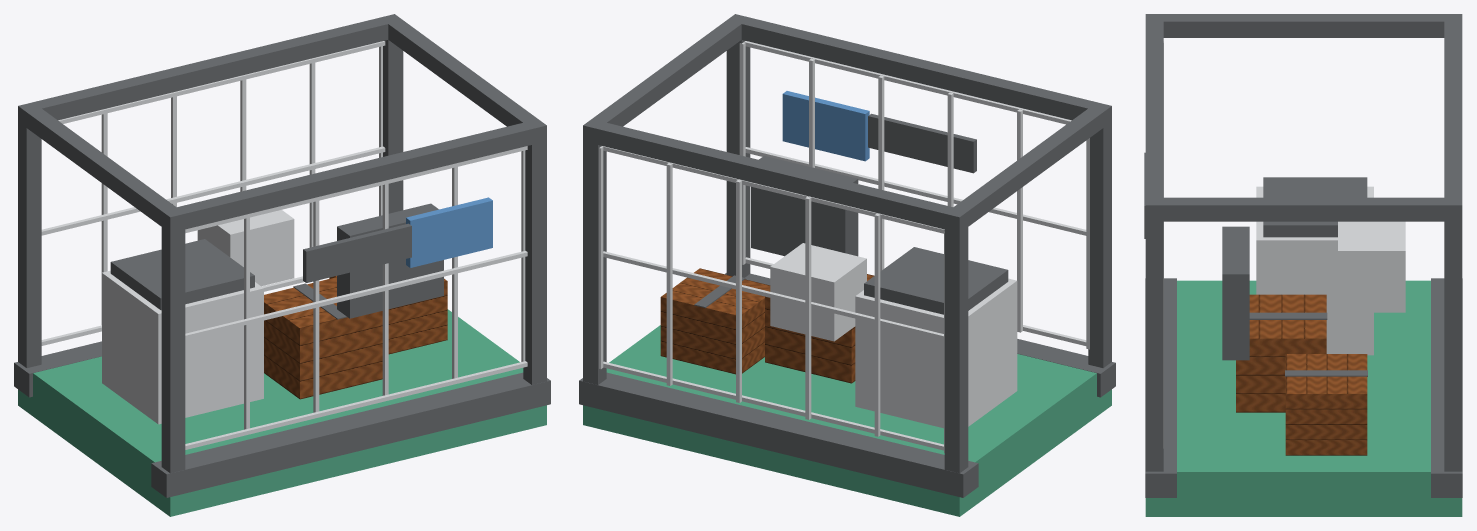
Rendered from recycling-and-waste-transfer-yard-recycling-and-waste--1be03227__34903.glb.
3 renders of one model, left to right at view 1: azimuth 30°, elevation 25°; view 2: azimuth 150°, elevation 25°; view 3: azimuth 270°, elevation 25°, orthographic. The views are drawn at different scales.
Parts seen in each view (by area): view 1: recycling-and-waste-transfer-yard-small-electricals-cage; view 2: recycling-and-waste-transfer-yard-small-electricals-cage; view 3: recycling-and-waste-transfer-yard-small-electricals-cage.
Part boxes in pixels (bbox=[...]): recycling-and-waste-transfer-yard-small-electricals-cage: bbox=[14, 14, 550, 516]; recycling-and-waste-transfer-yard-small-electricals-cage: bbox=[579, 14, 1115, 516]; recycling-and-waste-transfer-yard-small-electricals-cage: bbox=[1144, 14, 1462, 516].
Bounding box in the file's own units: 2.04 × 1.52 × 1.41.
5 materials, 1 textured.
